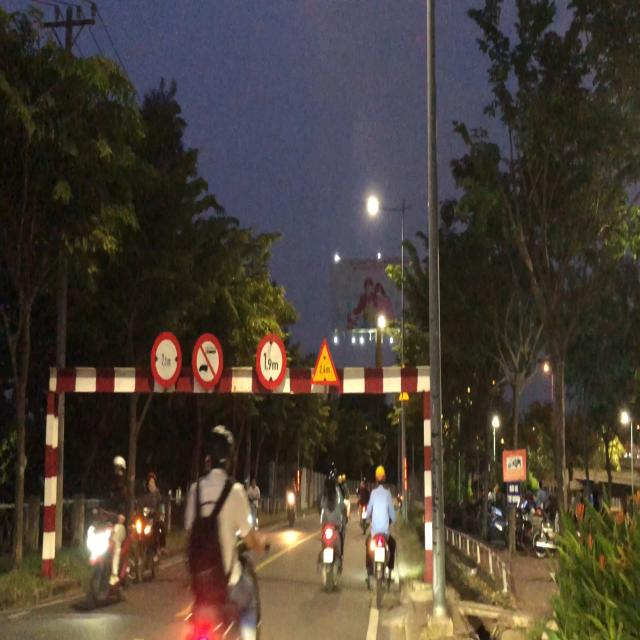Bien bao cam xe oto khach va xe oto tai: (189, 326, 226, 396)
Bien bao chieu cao tinh khong thuc te: (309, 332, 342, 393)
Bien bao han che chieu cao: (255, 327, 288, 396)
